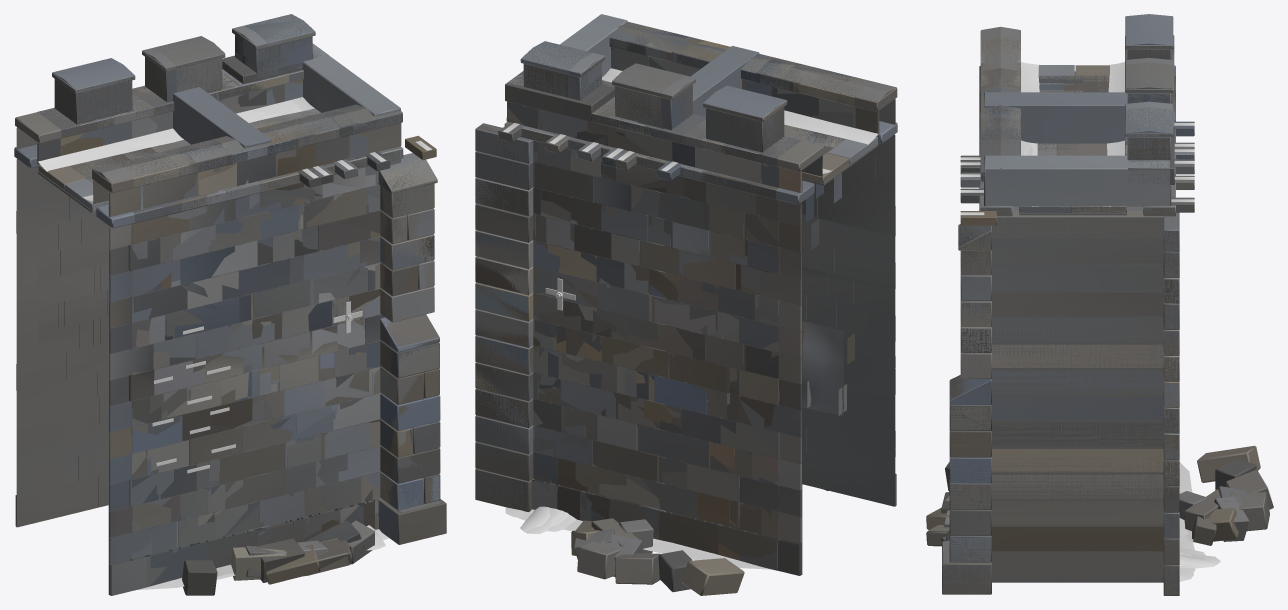
3 renders of one model, left to right at view 1: azimuth 30°, elevation 25°; view 2: azimuth 150°, elevation 25°; view 3: azimuth 270°, elevation 25°, orthographic.
Visible parts, largest first — view 1: PW_EX_siege_5p40_sn_Stone_LOD1, PW_EX_impact_5p00_Stone_LOD1, PW_EX_intact_a_5p00_Stone_LOD1, PW_EX_merlons_5p00_Stone_LOD1, PW_EX_repair_5p00_Stone_LOD1, PW_EX_siege_4p10_Stone_LOD1, PW_EX_intact_b_5p00_Stone_LOD1, PW_EX_fill_2p90_sn_ee_Stone_LOD1, PW_EX_fill_1p20_se_Stone_LOD1, PW_EX_gate_1p60_sn_Stone_LOD1, PW_EX_siege_5p40_sn_Kit_LOD1, PW_EX_repair_5p00_Kit_LOD1 (+1 smaller); view 2: PW_EX_siege_5p40_sn_Stone_LOD1, PW_EX_impact_5p00_Stone_LOD1, PW_EX_merlons_5p00_Stone_LOD1, PW_EX_intact_a_5p00_Stone_LOD1, PW_EX_repair_5p00_Stone_LOD1, PW_EX_intact_b_5p00_Stone_LOD1, PW_EX_siege_4p10_Stone_LOD1, PW_EX_fill_2p90_sn_ee_Stone_LOD1, PW_EX_gate_1p60_sn_Stone_LOD1, PW_EX_fill_1p20_se_Stone_LOD1, PW_EX_siege_5p40_sn_Kit_LOD1, PW_EX_impact_5p00_Kit_LOD1 (+1 smaller); view 3: PW_EX_fill_1p20_se_Stone_LOD1, PW_EX_impact_5p00_Stone_LOD1, PW_EX_fill_2p90_sn_ee_Stone_LOD1, PW_EX_intact_a_5p00_Stone_LOD1, PW_EX_repair_5p00_Stone_LOD1, PW_EX_siege_5p40_sn_Stone_LOD1, PW_EX_intact_b_5p00_Stone_LOD1, PW_EX_merlons_5p00_Stone_LOD1, PW_EX_siege_4p10_Stone_LOD1, PW_EX_siege_5p40_sn_Kit_LOD1, PW_EX_gate_1p60_sn_Stone_LOD1, PW_EX_impact_5p00_Kit_LOD1.
Boxes of the visible parts, x1,y1,x2,y2 form: PW_EX_siege_5p40_sn_Stone_LOD1: (14,55,399,595); PW_EX_impact_5p00_Stone_LOD1: (38,28,446,586); PW_EX_intact_a_5p00_Stone_LOD1: (38,32,439,587); PW_EX_merlons_5p00_Stone_LOD1: (54,54,446,595); PW_EX_repair_5p00_Stone_LOD1: (39,30,440,560); PW_EX_siege_4p10_Stone_LOD1: (87,44,435,575); PW_EX_intact_b_5p00_Stone_LOD1: (37,35,439,557); PW_EX_fill_2p90_sn_ee_Stone_LOD1: (153,14,402,532); PW_EX_fill_1p20_se_Stone_LOD1: (244,14,436,528); PW_EX_gate_1p60_sn_Stone_LOD1: (222,44,401,523); PW_EX_siege_5p40_sn_Kit_LOD1: (38,110,318,589); PW_EX_repair_5p00_Kit_LOD1: (182,301,385,549); PW_EX_siege_5p40_sn_Stone_LOD1: (505,32,897,592); PW_EX_impact_5p00_Stone_LOD1: (475,23,874,595); PW_EX_merlons_5p00_Stone_LOD1: (475,23,864,584); PW_EX_intact_a_5p00_Stone_LOD1: (475,27,873,538); PW_EX_repair_5p00_Stone_LOD1: (475,23,860,560); PW_EX_intact_b_5p00_Stone_LOD1: (475,25,873,570); PW_EX_siege_4p10_Stone_LOD1: (475,37,825,576); PW_EX_fill_2p90_sn_ee_Stone_LOD1: (505,22,759,512); PW_EX_gate_1p60_sn_Stone_LOD1: (505,22,688,521); PW_EX_fill_1p20_se_Stone_LOD1: (498,14,665,489); PW_EX_siege_5p40_sn_Kit_LOD1: (617,122,878,569); PW_EX_impact_5p00_Kit_LOD1: (521,110,846,542); PW_EX_fill_1p20_se_Stone_LOD1: (960,107,1194,582); PW_EX_impact_5p00_Stone_LOD1: (940,14,1260,595); PW_EX_fill_2p90_sn_ee_Stone_LOD1: (960,62,1194,215); PW_EX_intact_a_5p00_Stone_LOD1: (943,38,1179,595); PW_EX_repair_5p00_Stone_LOD1: (949,39,1193,564); PW_EX_siege_5p40_sn_Stone_LOD1: (926,26,1269,546); PW_EX_intact_b_5p00_Stone_LOD1: (950,38,1194,561); PW_EX_merlons_5p00_Stone_LOD1: (926,38,1273,594); PW_EX_siege_4p10_Stone_LOD1: (927,69,1249,595); PW_EX_siege_5p40_sn_Kit_LOD1: (960,62,1194,542); PW_EX_gate_1p60_sn_Stone_LOD1: (981,126,1174,213); PW_EX_impact_5p00_Kit_LOD1: (960,75,1220,562).
Bounding box in the file's own units: 5.9 × 8.14 × 5.59.
